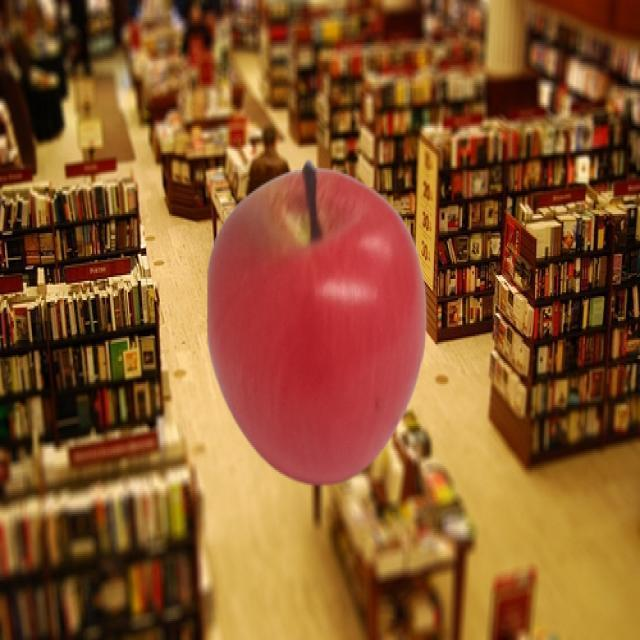apple: (205, 157, 429, 488)
